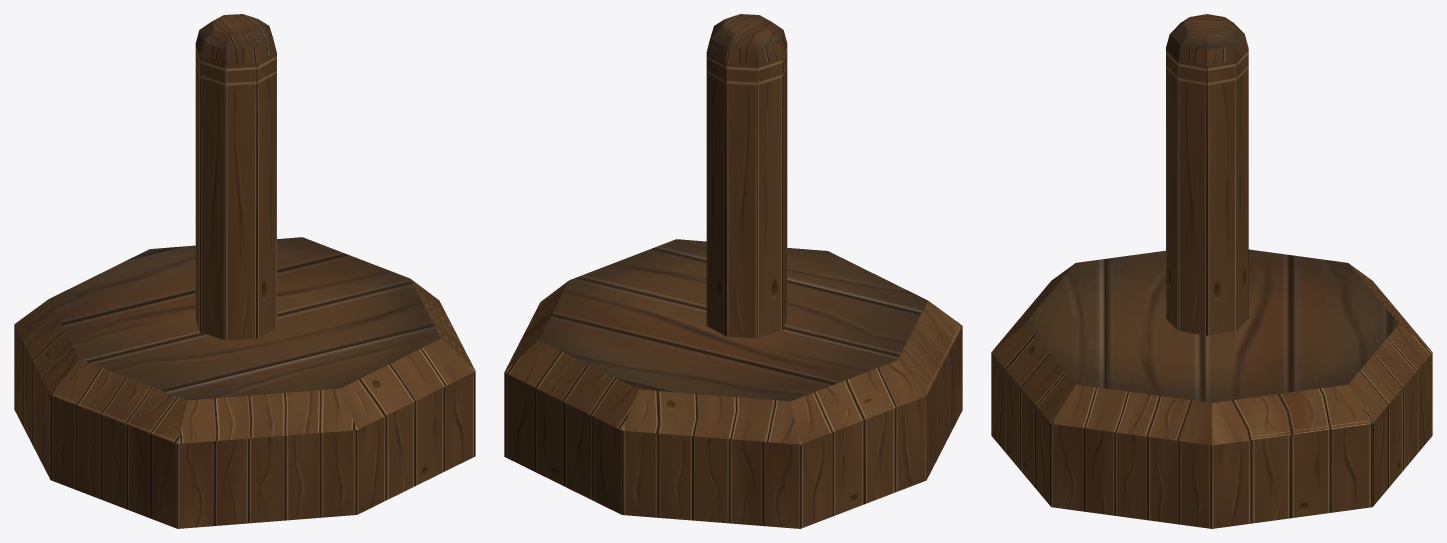
3 views of the same model, side by side, from view 1: azimuth 30°, elevation 25°; view 2: azimuth 150°, elevation 25°; view 3: azimuth 270°, elevation 25° (orthographic).
Visible parts, largest first — view 1: 拉桿; view 2: 拉桿; view 3: 拉桿.
Part boxes in pixels (x1,y1,x2,y2): 拉桿: [14, 14, 475, 528]; 拉桿: [504, 14, 962, 528]; 拉桿: [991, 14, 1432, 528].
Bounding box in the file's own units: 123 × 125 × 123.
1 material, 1 textured.
